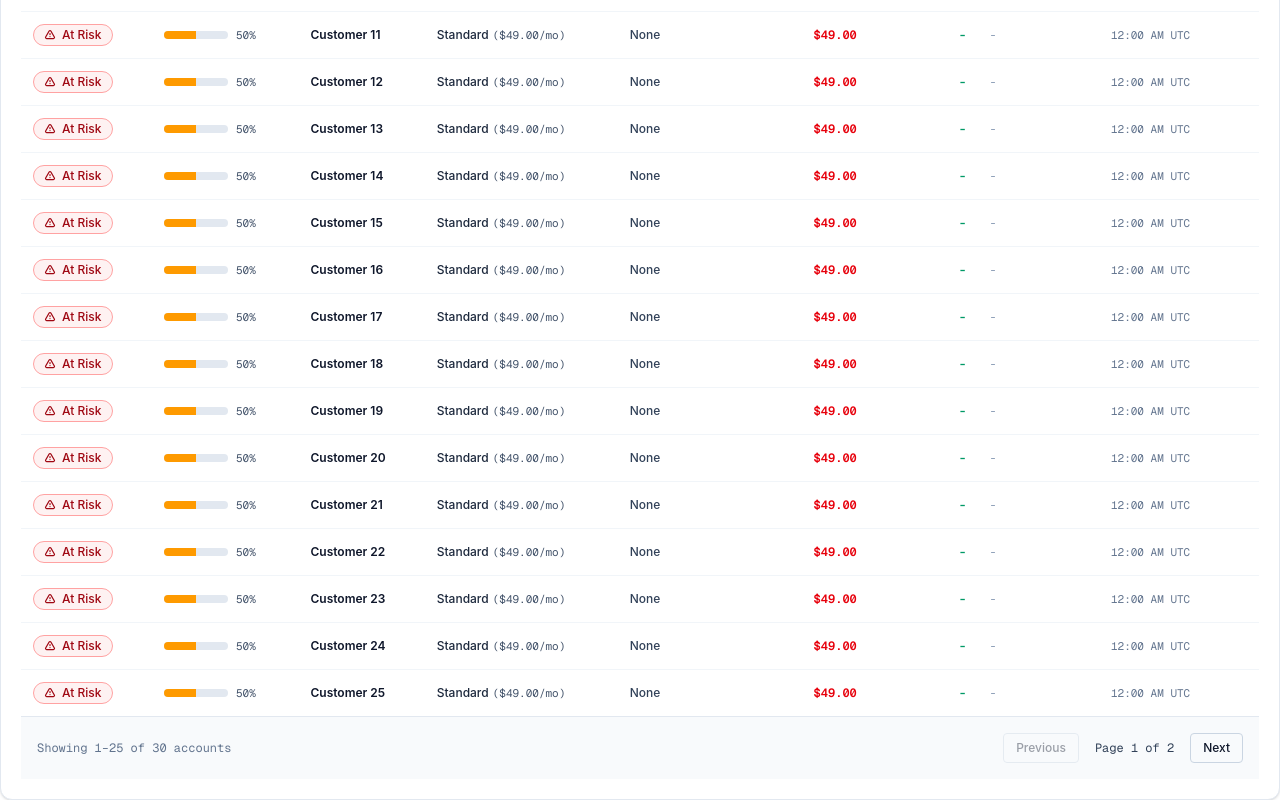
it: Checkpoint D — Dashboard Panels Component Tests › CustomersTable › paginates strictly at 25 rows per page
The width and height of the screenshot is (1280, 800).
(page scrolled)
Expected: the text "Customer 25" is shown, [298,670,425,716]
Expected: the text "Customer 26" is not shown
Go to next page
Click the button "Next": [1217, 748] box [1190,733,1243,763]
(page scrolled)
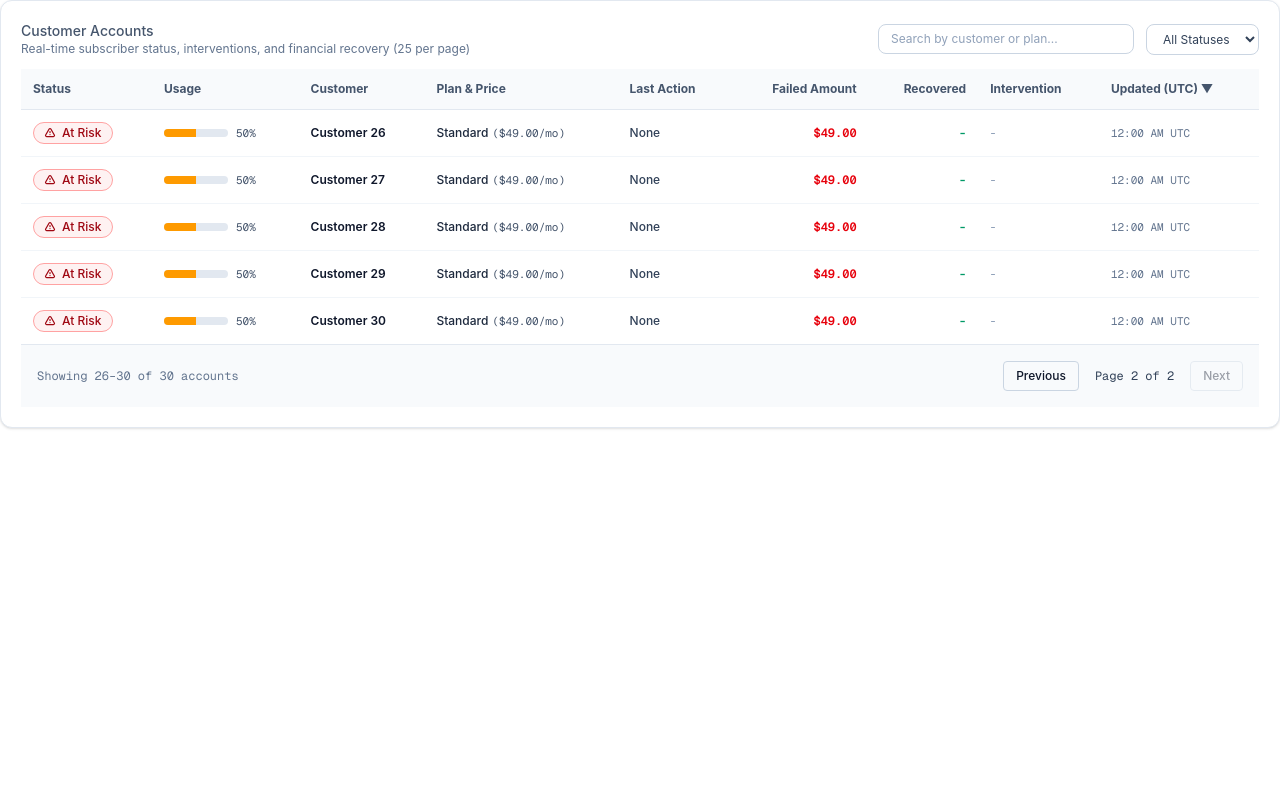
Now the text "Customer 26" is shown, box [298,110,424,156]
Now the text "Customer 30" is shown, box [298,298,424,344]
